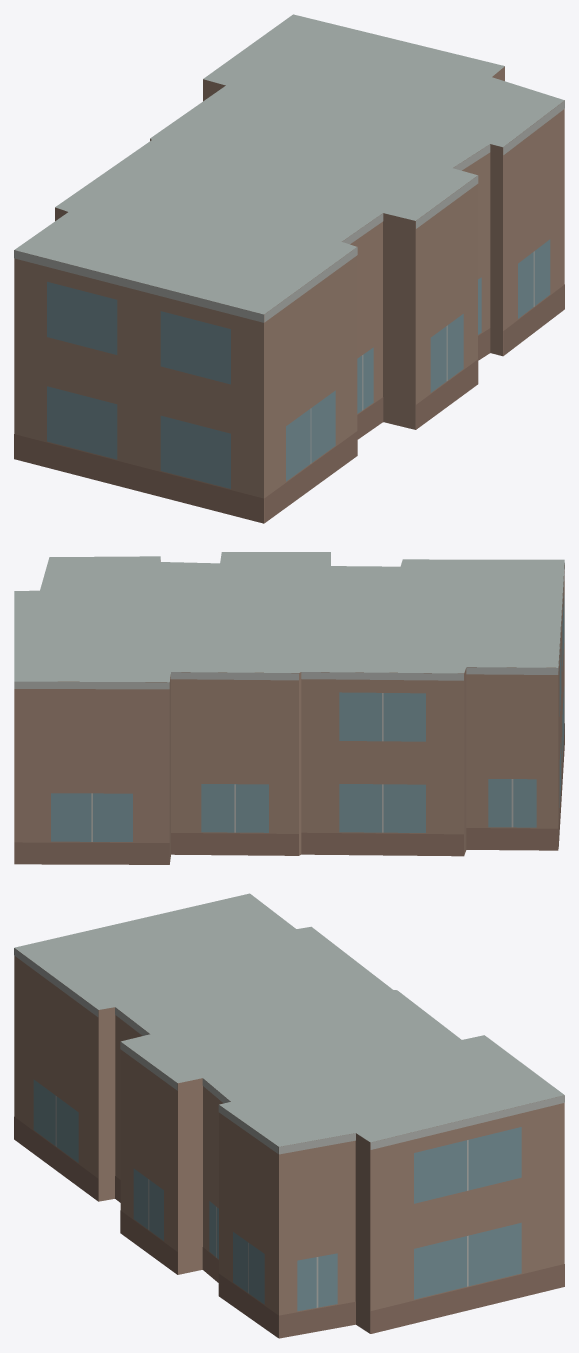
Rendered from survey-upis-32611332.glb.
The picture shows the model from 3 angles, top to bottom: view 1: azimuth 30°, elevation 25°; view 2: azimuth 150°, elevation 25°; view 3: azimuth 270°, elevation 25°; orthographic projection. The views are drawn at different scales.
Visible parts, largest first — view 1: survey-upis-32611332.tmp; view 2: survey-upis-32611332.tmp; view 3: survey-upis-32611332.tmp.
Part boxes in pixels (x1,y1,x2,y2): survey-upis-32611332.tmp: [14, 14, 564, 523]; survey-upis-32611332.tmp: [14, 552, 564, 864]; survey-upis-32611332.tmp: [14, 893, 564, 1338].
Bounding box in the file's own units: 17.31 × 6.1 × 15.89.
